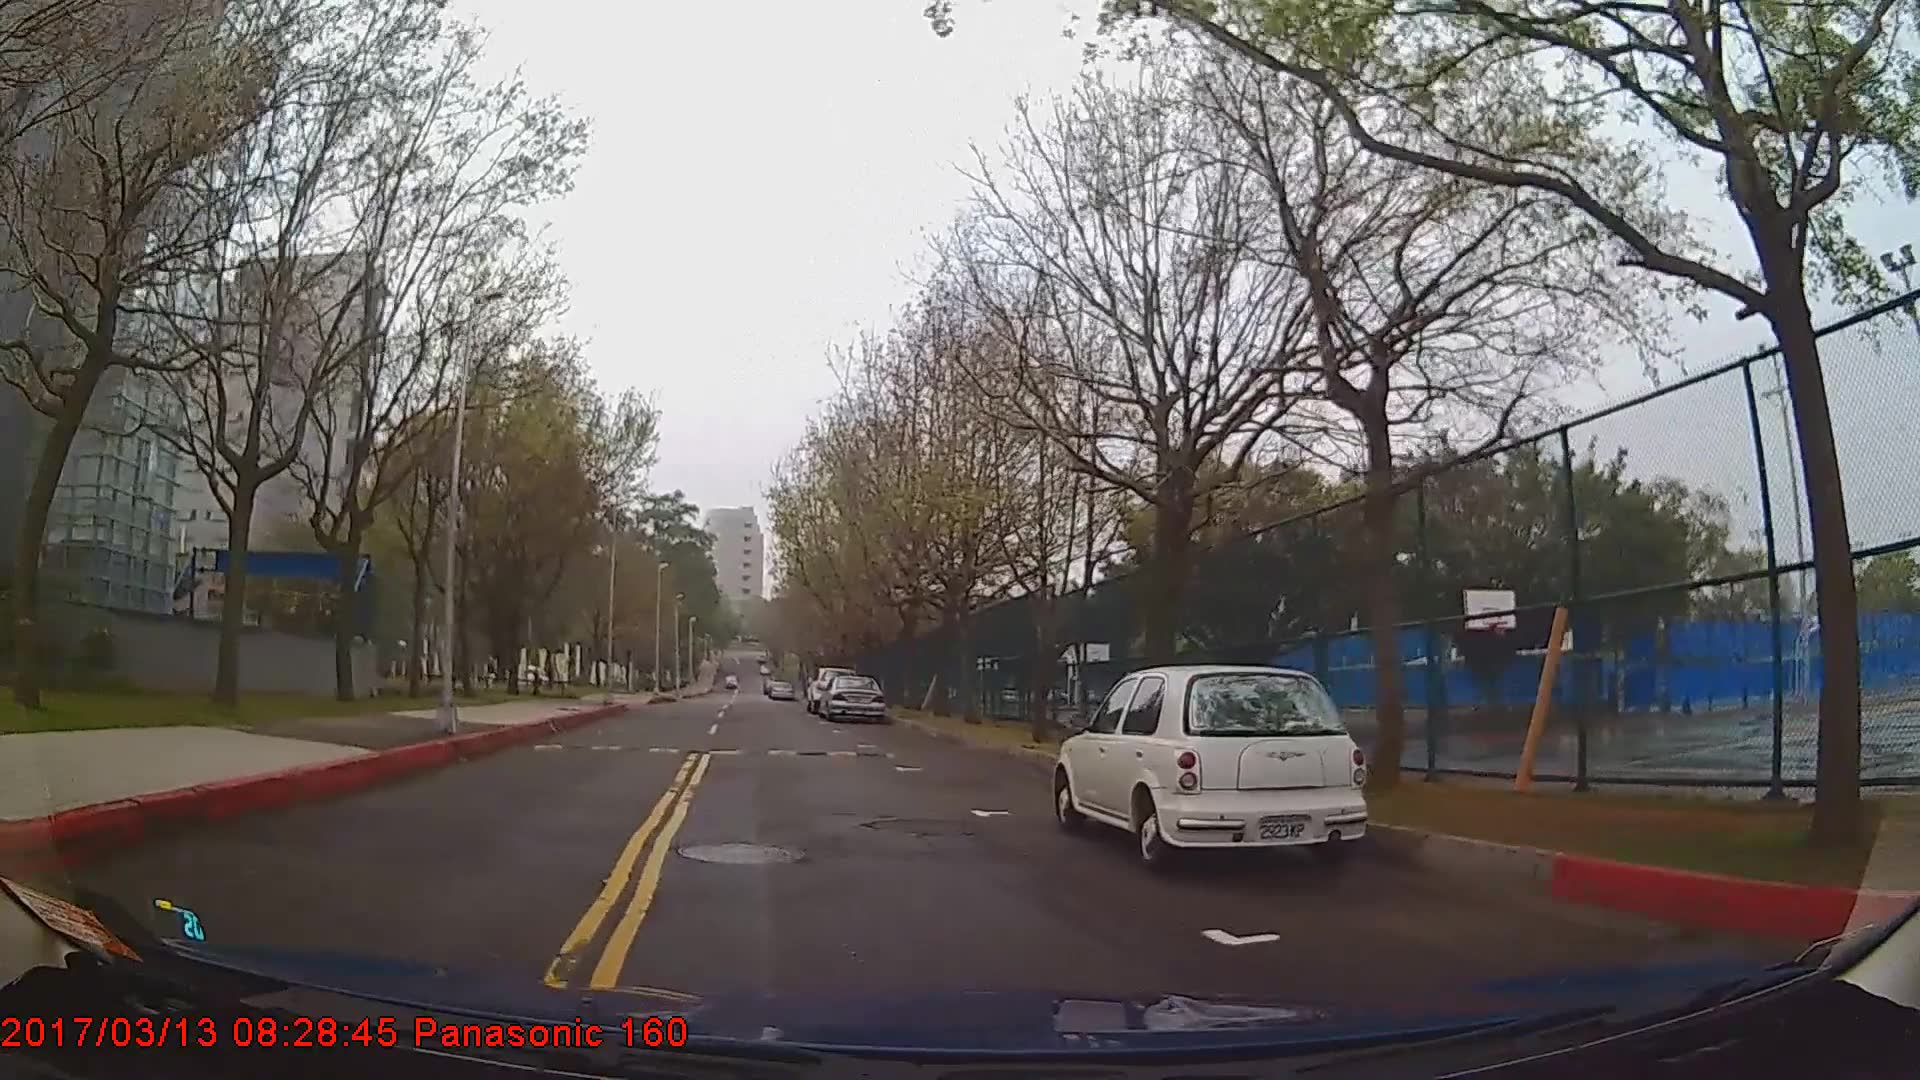vehicle: (1047, 662, 1367, 876), (814, 673, 884, 721)
